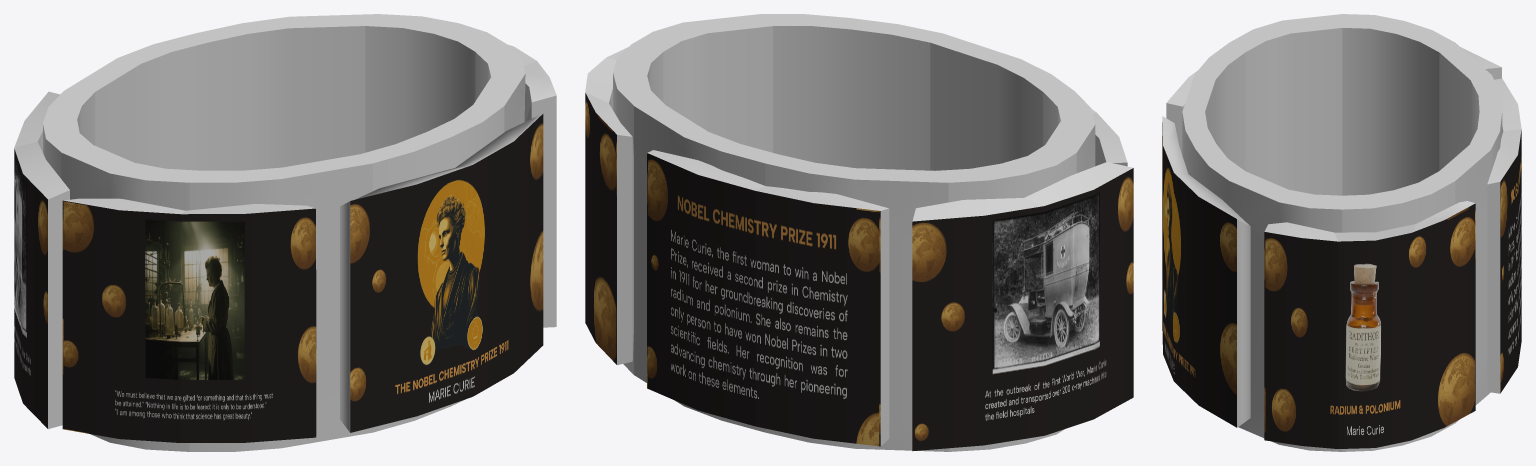
The model's file is marie curie1.fbx.
3 views of the same model, side by side, from view 1: azimuth 30°, elevation 25°; view 2: azimuth 150°, elevation 25°; view 3: azimuth 270°, elevation 25° (orthographic). The views are drawn at different scales.
Parts seen in each view (by area): view 1: polySurface24, polySurface27, polySurface25, polySurface29; view 2: polySurface24, polySurface26, polySurface29, polySurface28; view 3: polySurface24, polySurface28, polySurface25, polySurface26.
Part boxes in pixels (x1=…): polySurface24: x1=14, y1=14, x2=556, y2=451; polySurface27: x1=62, y1=200, x2=316, y2=442; polySurface25: x1=350, y1=114, x2=543, y2=432; polySurface29: x1=14, y1=149, x2=47, y2=428; polySurface24: x1=585, y1=14, x2=1133, y2=451; polySurface26: x1=647, y1=153, x2=880, y2=446; polySurface29: x1=912, y1=168, x2=1133, y2=451; polySurface28: x1=585, y1=93, x2=616, y2=364; polySurface24: x1=1162, y1=14, x2=1521, y2=451; polySurface28: x1=1264, y1=203, x2=1475, y2=448; polySurface25: x1=1162, y1=122, x2=1236, y2=427; polySurface26: x1=1500, y1=130, x2=1521, y2=393.
Bounding box in the file's own units: 8.15 × 4.12 × 5.54.
Materials: 6 (5 with a texture image).
